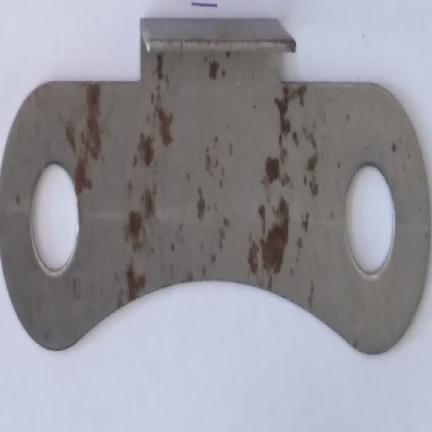besi_tidak_karat: (0, 79, 140, 352), (291, 80, 430, 349), (140, 19, 295, 50)
karat: (148, 48, 279, 292), (130, 48, 170, 245), (261, 194, 288, 289), (278, 83, 306, 143), (86, 84, 100, 158), (126, 264, 144, 299), (75, 157, 91, 194), (305, 155, 317, 204), (266, 156, 280, 184), (222, 45, 233, 71), (66, 122, 75, 152), (197, 188, 204, 218)
